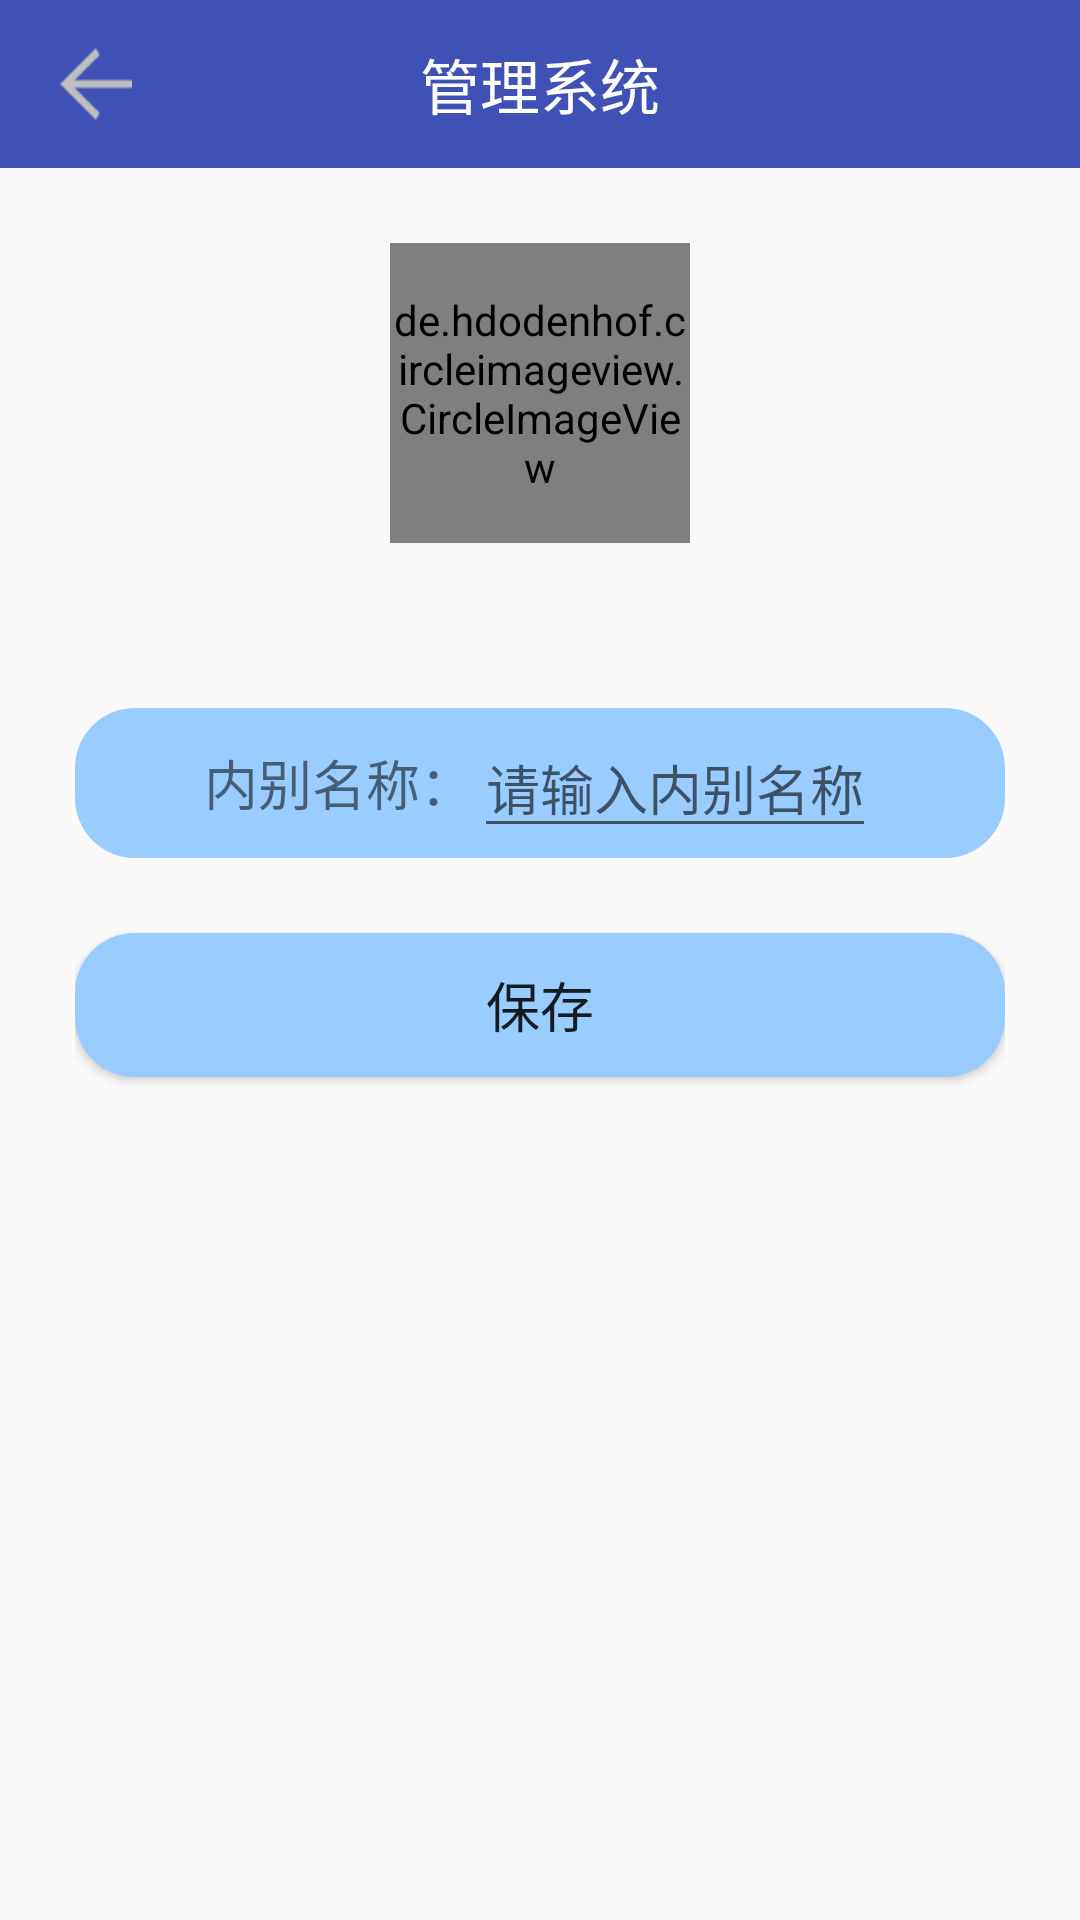

Screen size 1080px×1920px. Icon name, then its box in pixels as (x1, y1, x2, y2):
return: (60, 48, 132, 120)
